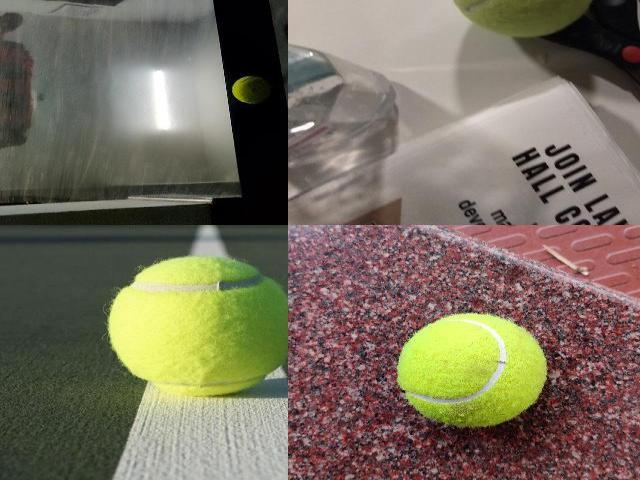tennis-ball: (107, 256, 287, 394), (398, 314, 546, 426), (447, 0, 597, 38), (232, 75, 272, 103)
